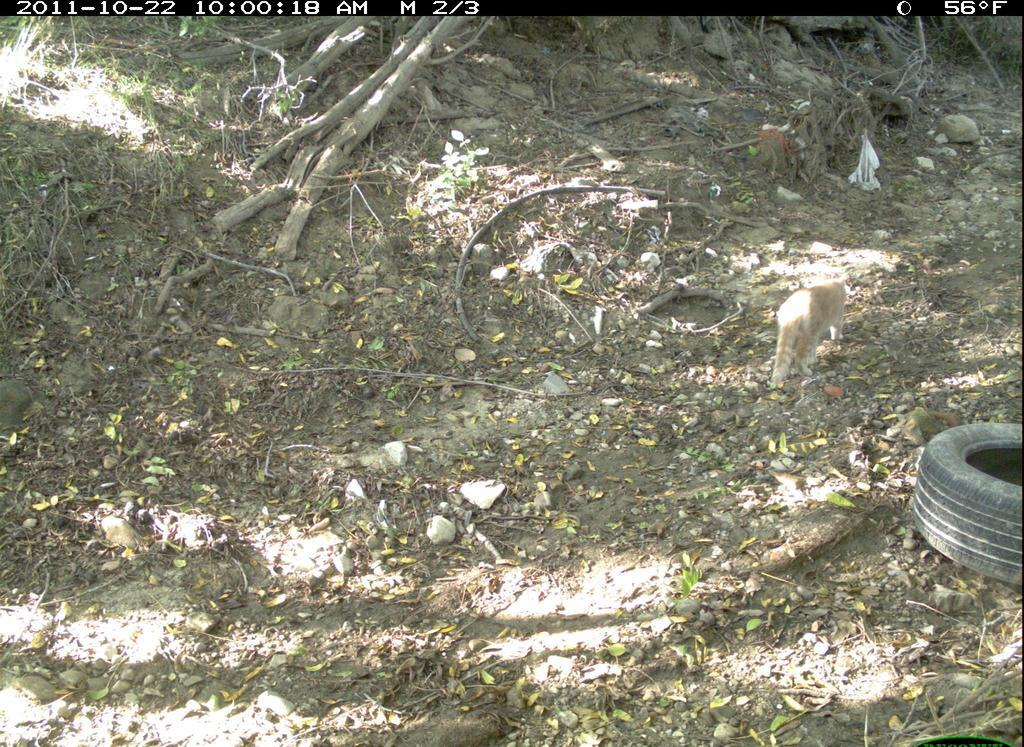cat: (772, 268, 852, 397)
